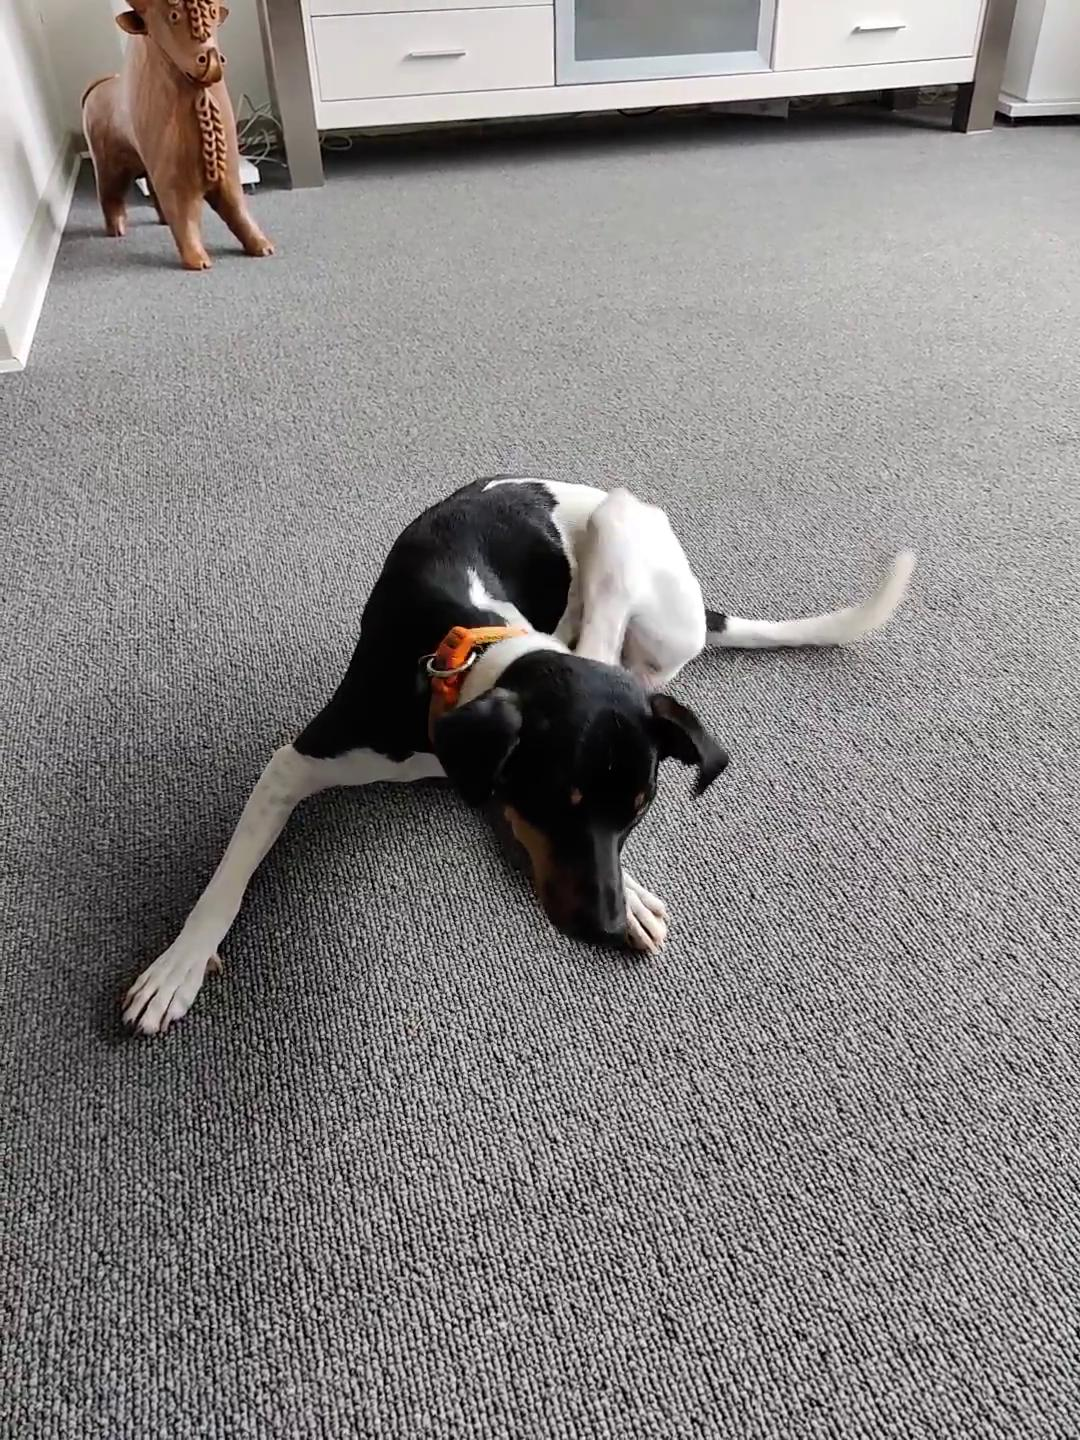Dog: (74, 450, 922, 1061)
